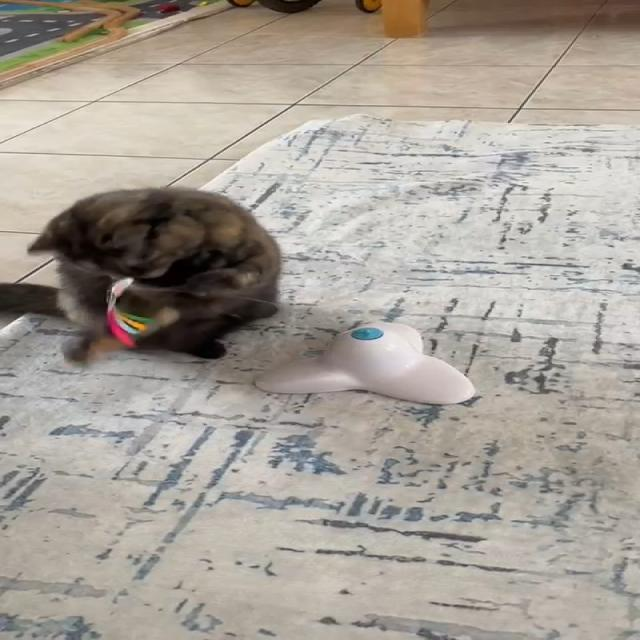authorized: (2, 185, 282, 364)
